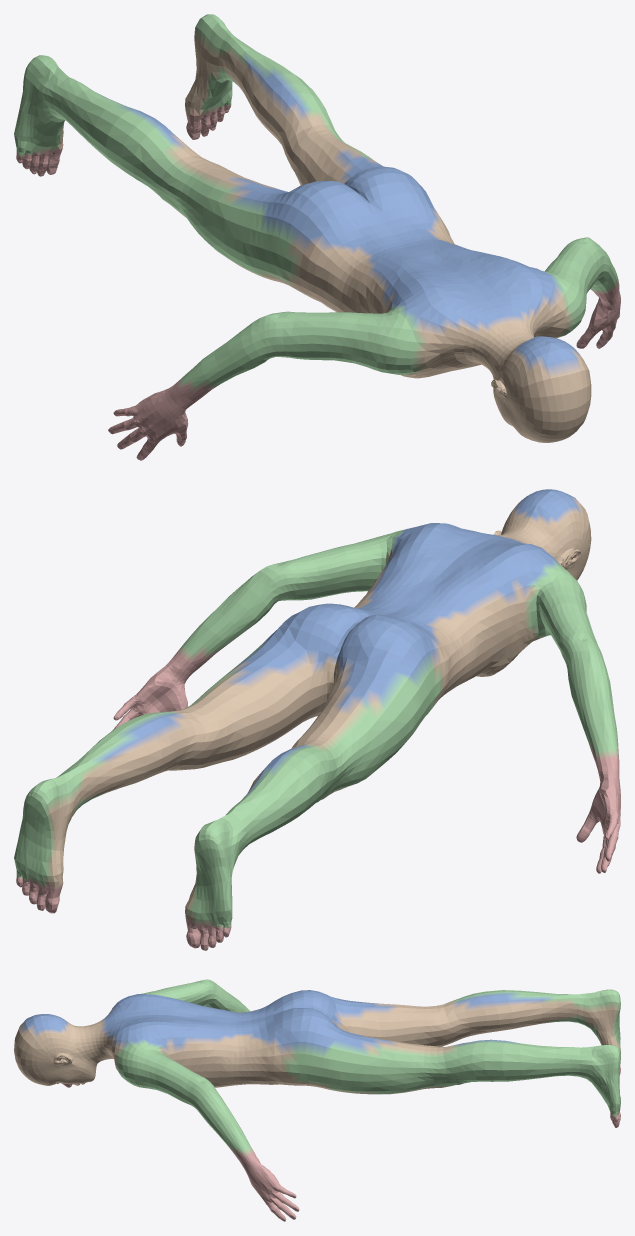
File: human_body.glb
3 views of the same model, one above another, from view 1: azimuth 30°, elevation 25°; view 2: azimuth 150°, elevation 25°; view 3: azimuth 270°, elevation 25° (orthographic). The views are drawn at different scales.
Parts seen in each view (by area): view 1: world; view 2: world; view 3: world.
Boxes of the visible parts, <box> form: world: <box>14,14,620,460</box>; world: <box>14,489,620,950</box>; world: <box>14,979,620,1221</box>.
Size of the model in its own units: 1.04 by 0.4248 by 1.63.
